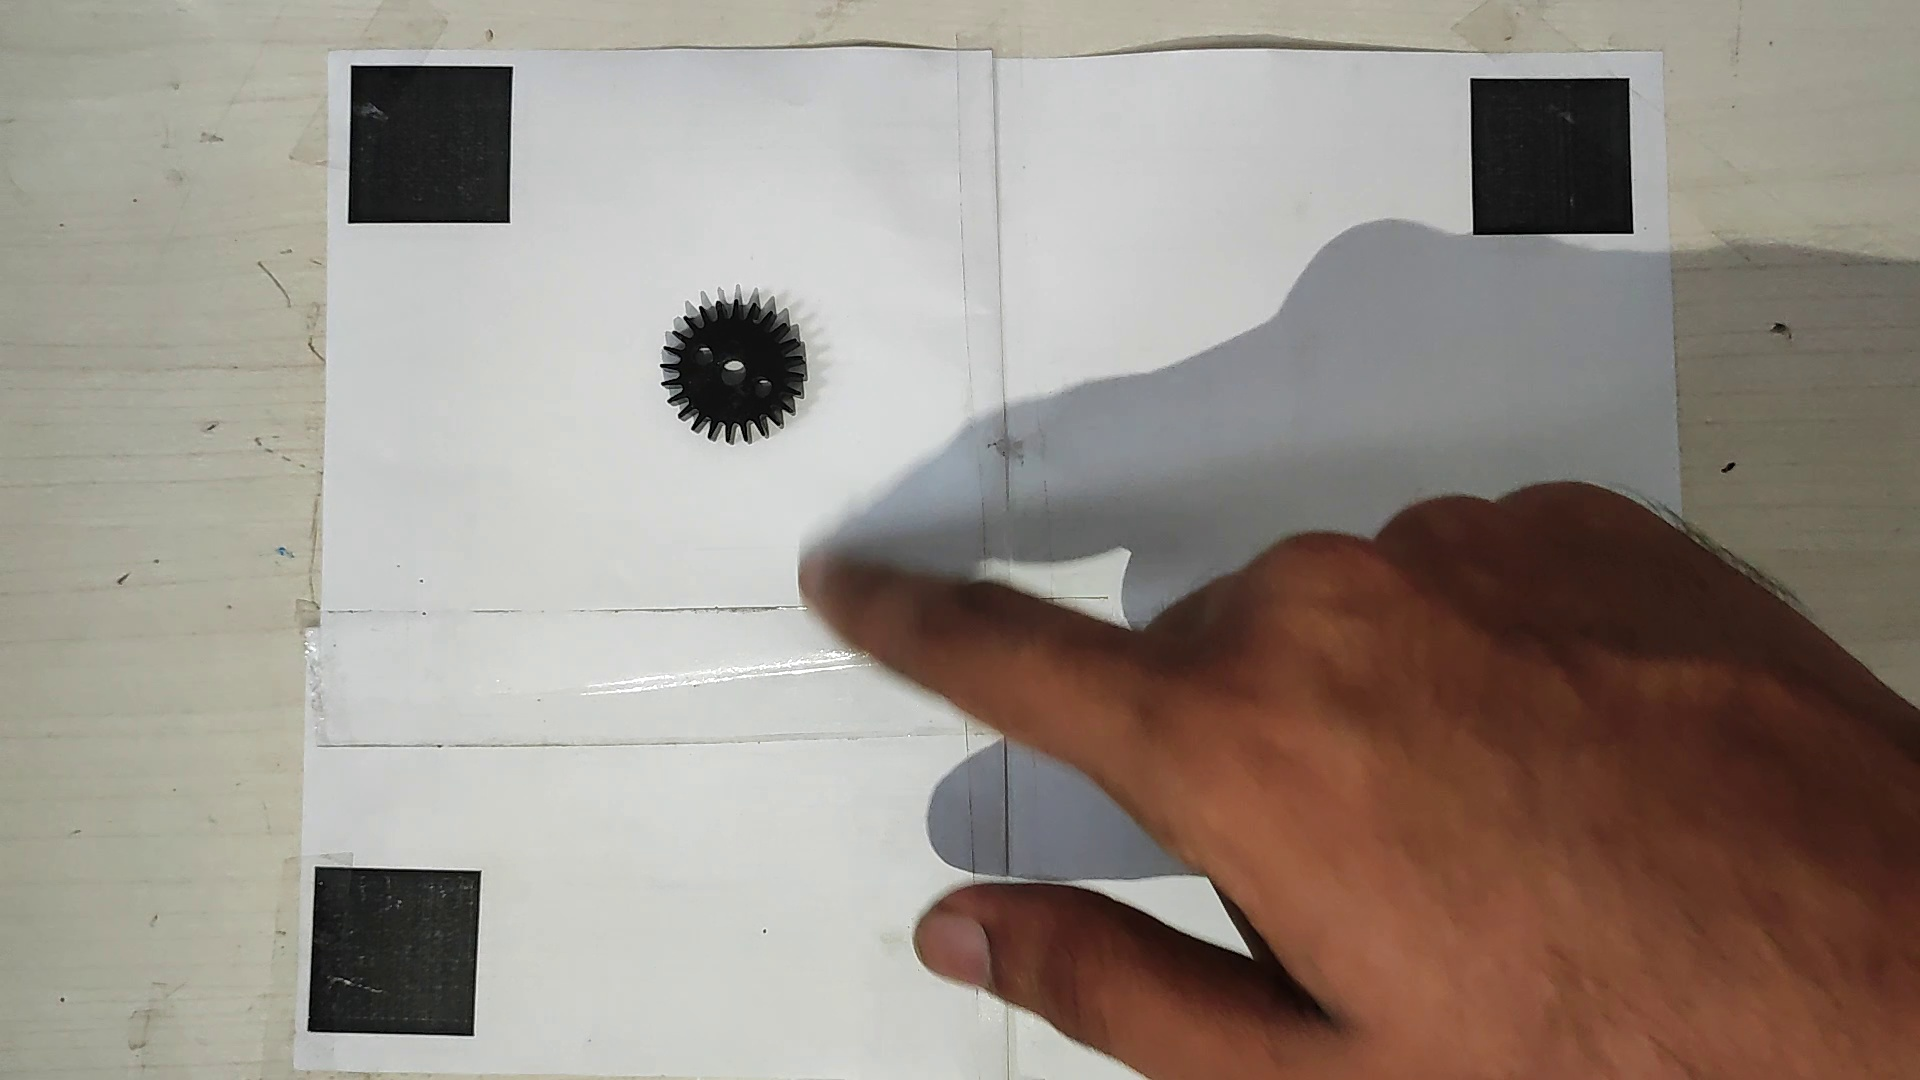Gear: (651, 297, 812, 440)
